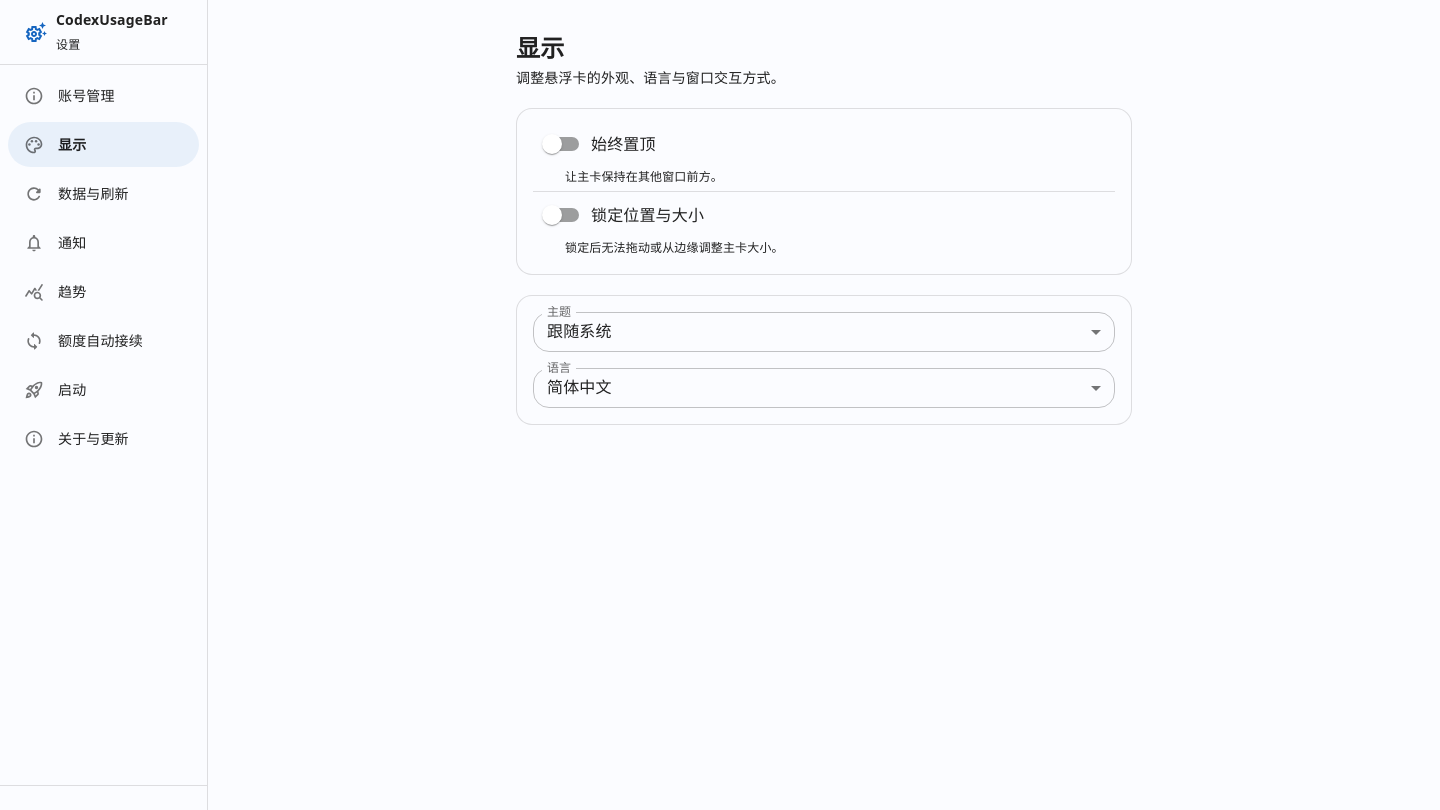
Scenario: SettingsWindow › persists display settings and reports the result
This screenshot has width=1440, height=810.
Expected: the heading "显示" is shown, [516,31,564,64]
Click the switch labelled "始终置顶" at x=599, y=144, box [542,133,656,155]
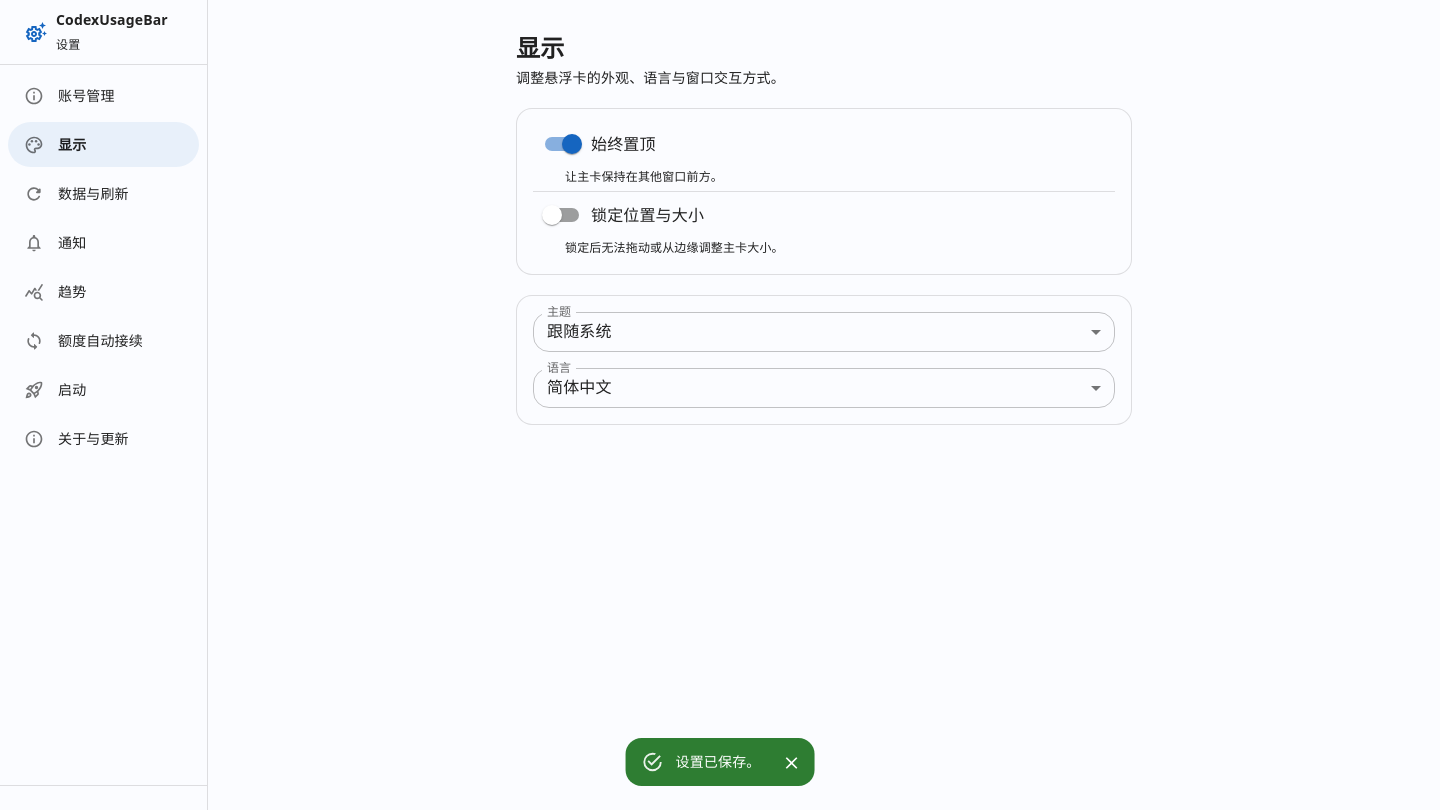
Now the text "设置已保存。" is shown, box [676,752,760,771]
